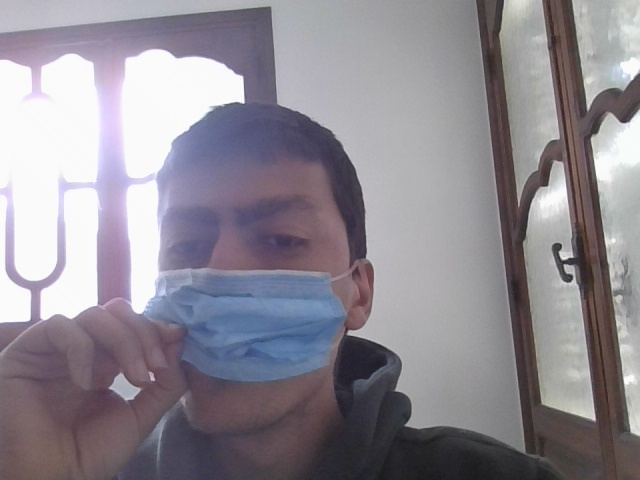mask_weared_incorrect: (140, 132, 366, 429)
